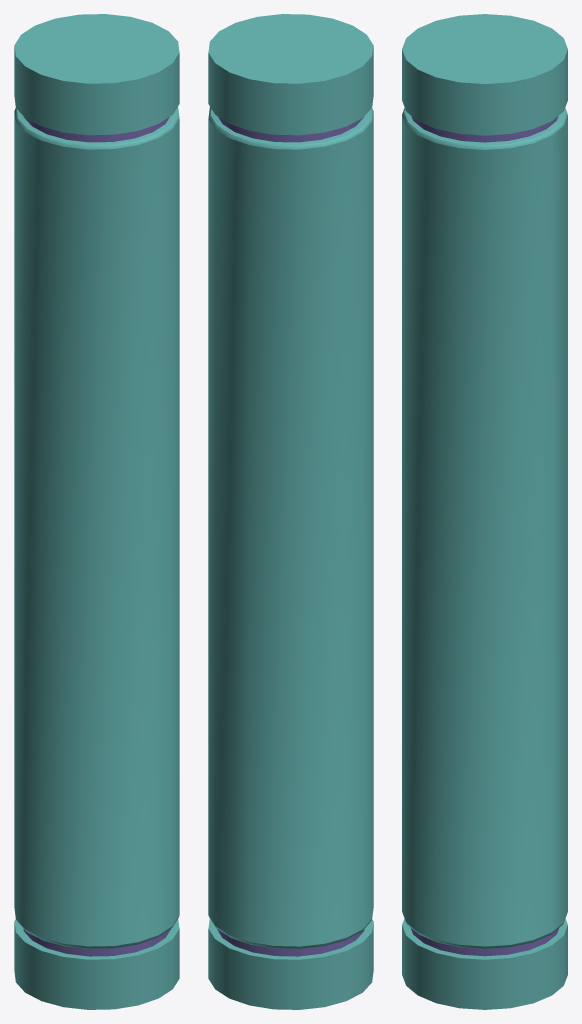
Rendered from 90sArcade_Pillar_Full.fbx.
3 views of the same model, side by side, from view 1: azimuth 30°, elevation 25°; view 2: azimuth 150°, elevation 25°; view 3: azimuth 270°, elevation 25° (orthographic).
Visible parts, largest first — view 1: Pillar_90sArcade.002; view 2: Pillar_90sArcade.002; view 3: Pillar_90sArcade.002.
Part boxes in pixels (x1,y1,x2,y2): Pillar_90sArcade.002: [14, 14, 179, 1009]; Pillar_90sArcade.002: [208, 14, 373, 1009]; Pillar_90sArcade.002: [402, 14, 567, 1009].
Size of the model in its own units: 81.19 by 500 by 81.19.
